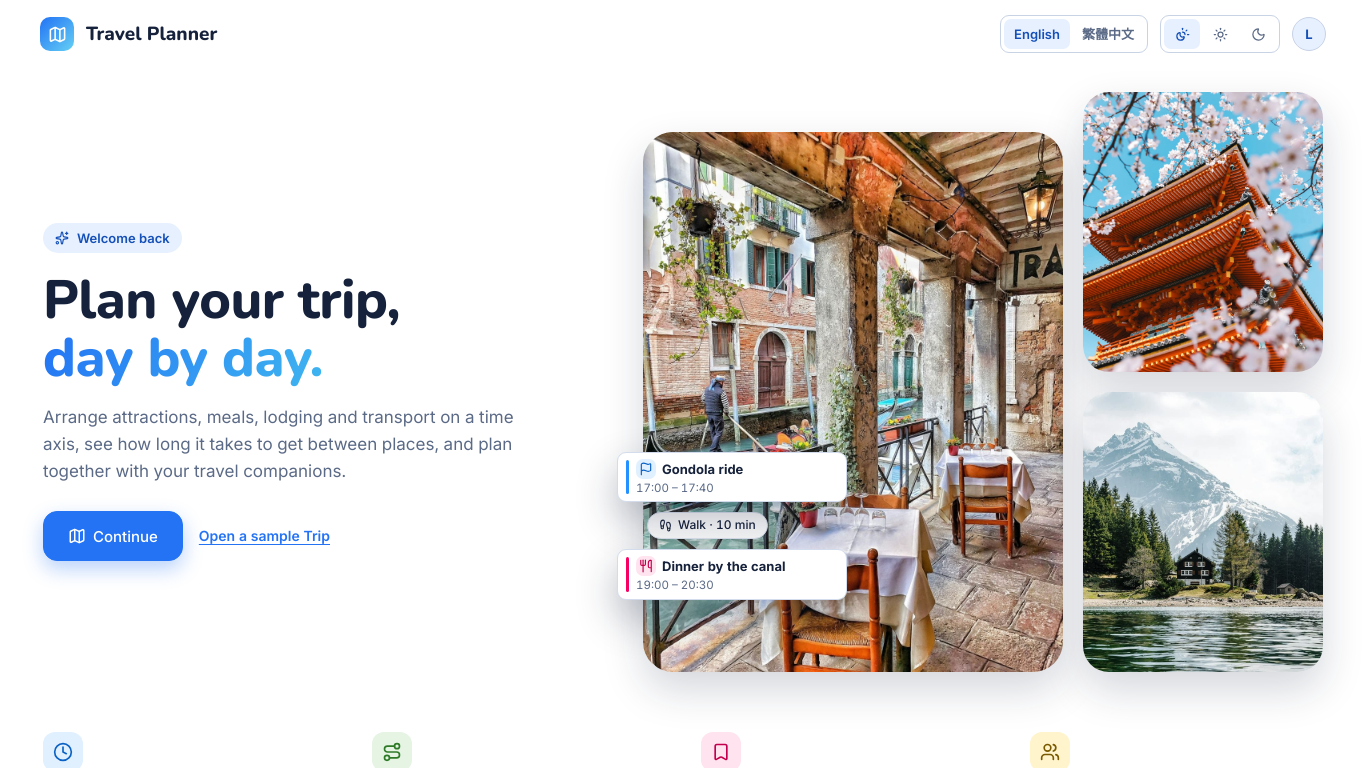
Test: a logged-in user › with Trips continues, sees the avatar instead of Log in and no note about this browser
The width and height of the screenshot is (1366, 768).
Expected: the button "Continue" is shown, [43,511,183,561]
Expected: the text "Welcome back" is shown, [43,223,182,253]
Step 1. Click the button named "Account" → x=1309, y=34, box [1292,17,1326,51]
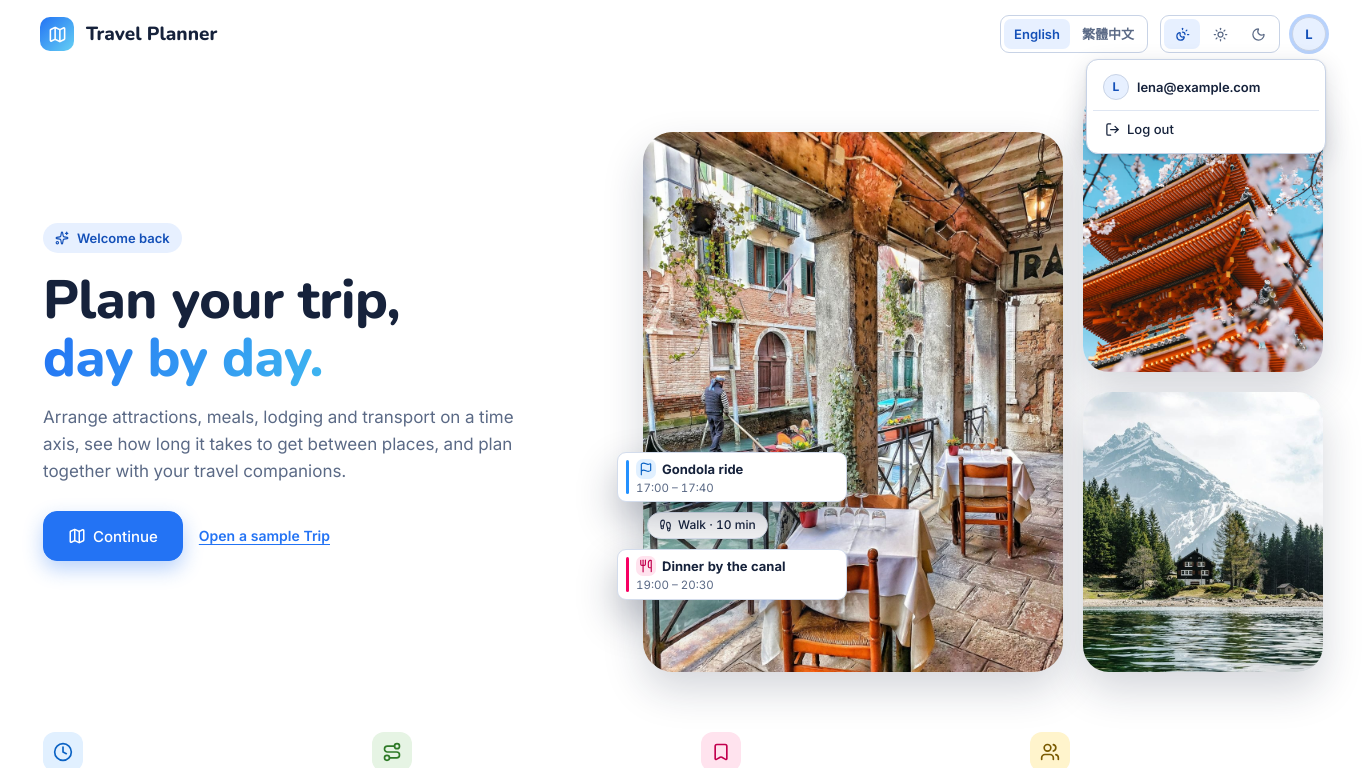
Expected: the text "lena@example.com" is shown, [1137,79,1260,95]
Expected: the menu item "Log out" is shown, [1093,111,1319,147]
